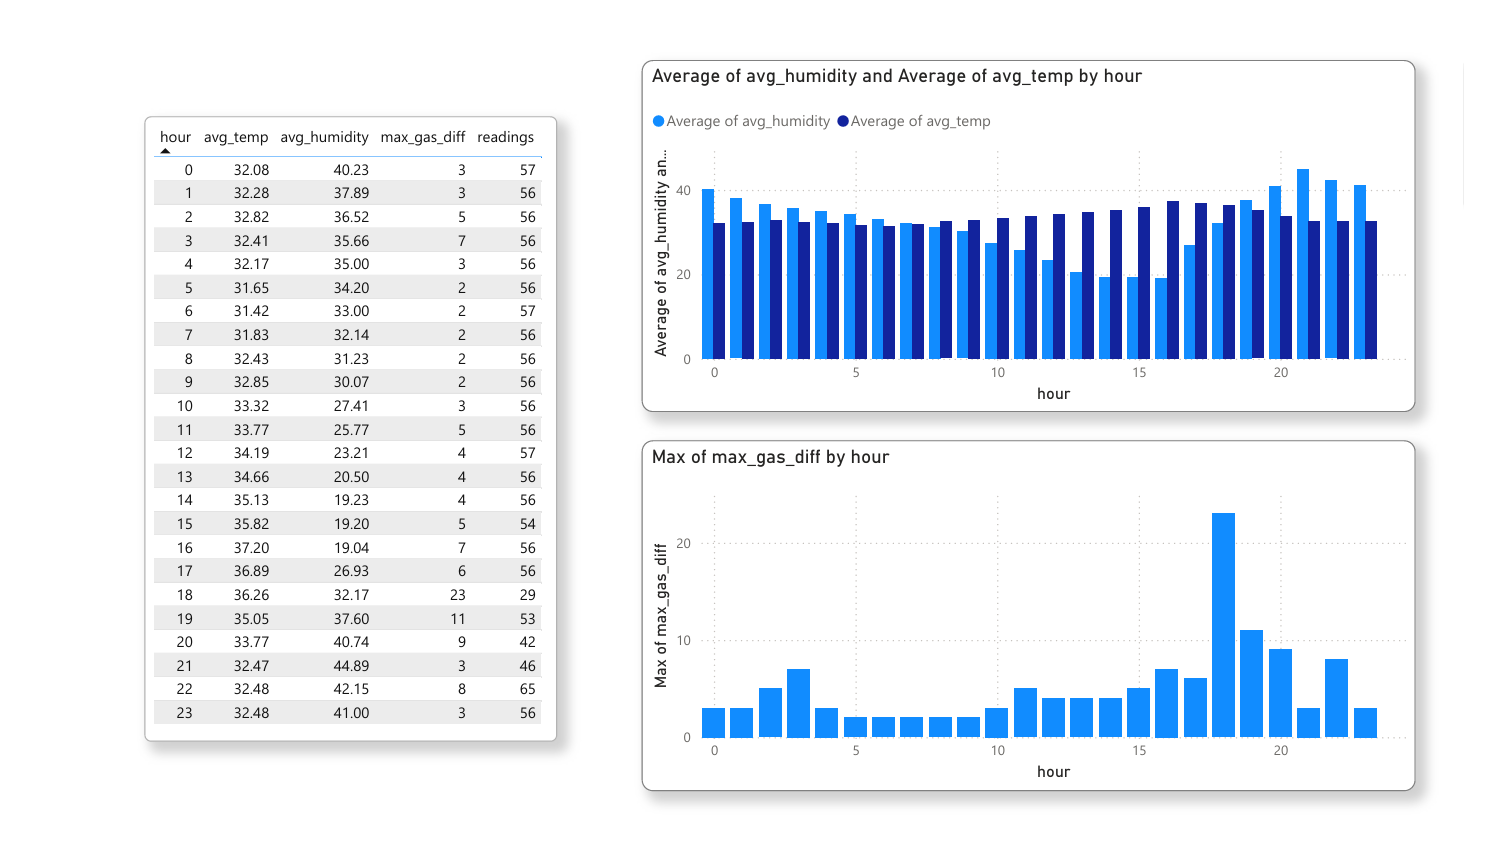

Layout of this report page (visuals, bound fields, positions):
{"tool":"powerbi","page":{"name":"Hourly Summary","canvas":[1280,720],"ordinal":2},"visuals":[{"type":"clusteredColumnChart","fields":{"Category":["hourly_summary.hour"],"Y":["Avg(hourly_summary.avg_humidity)","Avg(hourly_summary.avg_temp)"]},"box":[548.7,32.4,688,312.2],"z":0},{"type":"clusteredColumnChart","fields":{"Category":["hourly_summary.hour"],"Y":["Max(hourly_summary.max_gas_diff)"]},"box":[548.7,369.8,688,312.2],"z":1},{"type":"tableEx","fields":{"Values":["hourly_summary.hour","hourly_summary.avg_temp","hourly_summary.avg_humidity","hourly_summary.max_gas_diff","hourly_summary.readings"]},"box":[106.9,81.7,367.4,555.9],"z":2}]}

Visuals, with their boxes in screenshot pixels (x1, y1, x2, y2), scaled from the page's 1280x720 canvas onto the 1487x857 screenshot:
clusteredColumnChart - hourly_summary.hour x Avg(hourly_summary.avg_humidity): l=637, t=39, r=1437, b=410
clusteredColumnChart - hourly_summary.hour x Max(hourly_summary.max_gas_diff): l=637, t=440, r=1437, b=812
tableEx - hourly_summary.hour x hourly_summary.avg_temp: l=124, t=97, r=551, b=759
